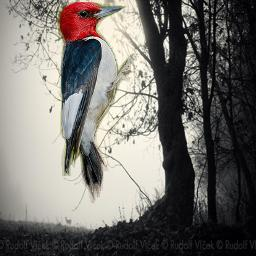Woodpecker: (54, 2, 138, 205)
